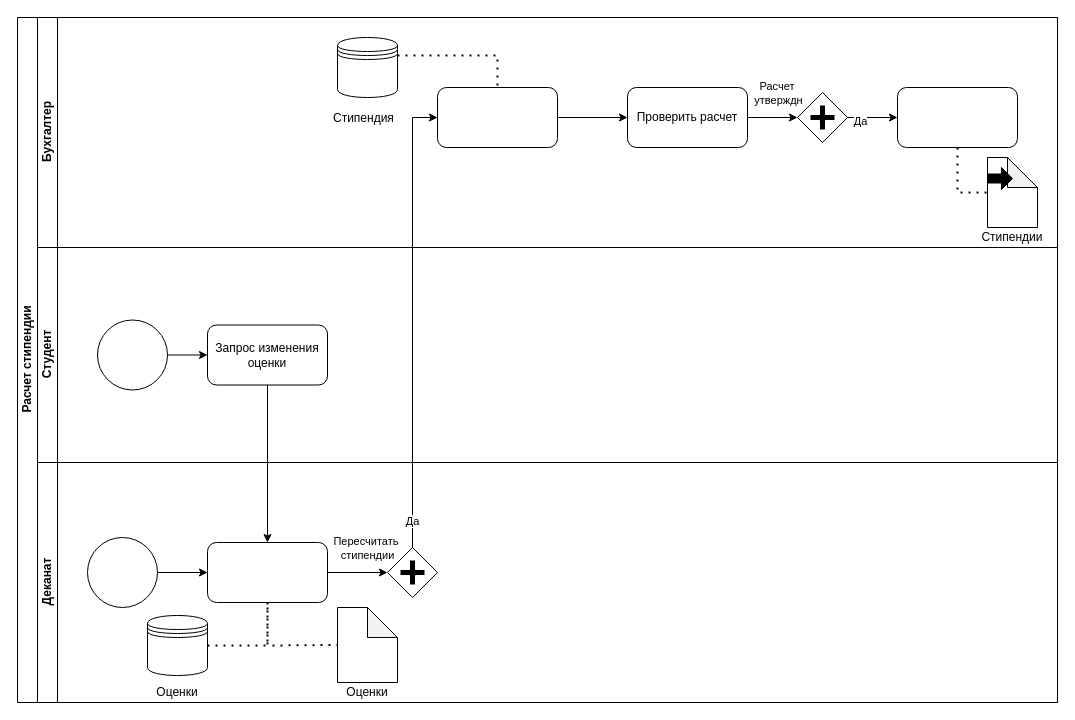
This 1075x720 diagram has some shape labels left out. Here are the shapes that lost their labels. From the top down, the centre of each, then its label:
At [497,117]: "Рассчитать стипендии".
At [957,117]: "Утвердить назначенные стипендии".
At [267,572]: "Внести/изменить оценки студентов".
